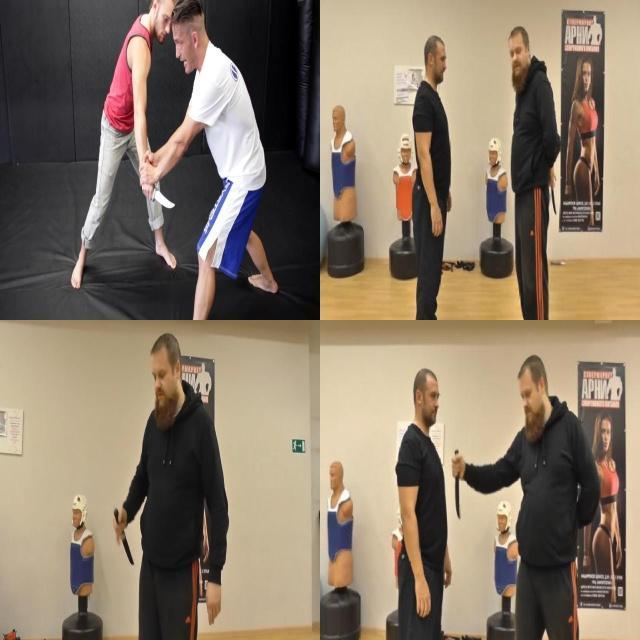-: (112, 505, 135, 568), (138, 181, 175, 212), (450, 445, 463, 521), (549, 170, 558, 216)
